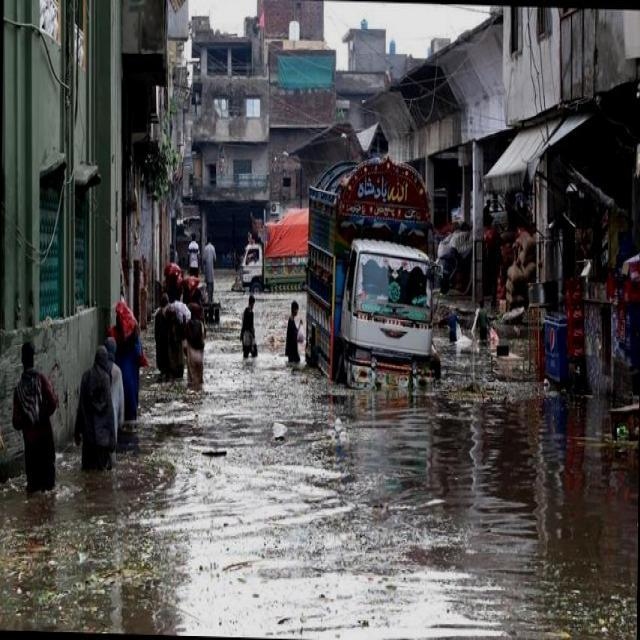flood: (0, 345, 639, 638)
